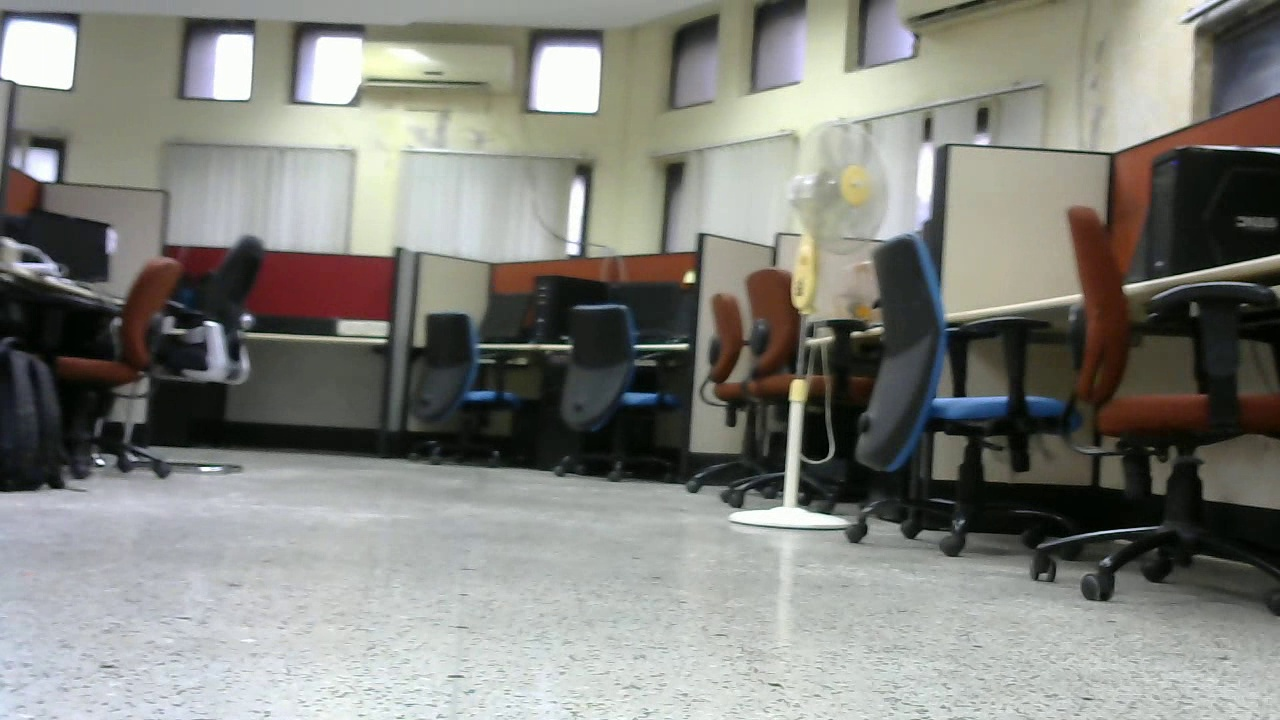chair: (1033, 201, 1280, 619), (840, 232, 1081, 557), (671, 269, 885, 501), (110, 227, 266, 474), (37, 249, 186, 476), (540, 305, 677, 484), (408, 308, 533, 469)
